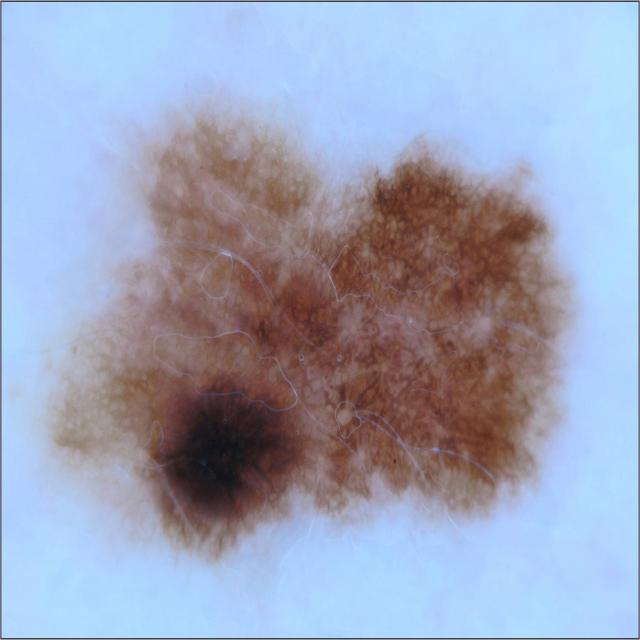Benign: (41, 99, 578, 577)
